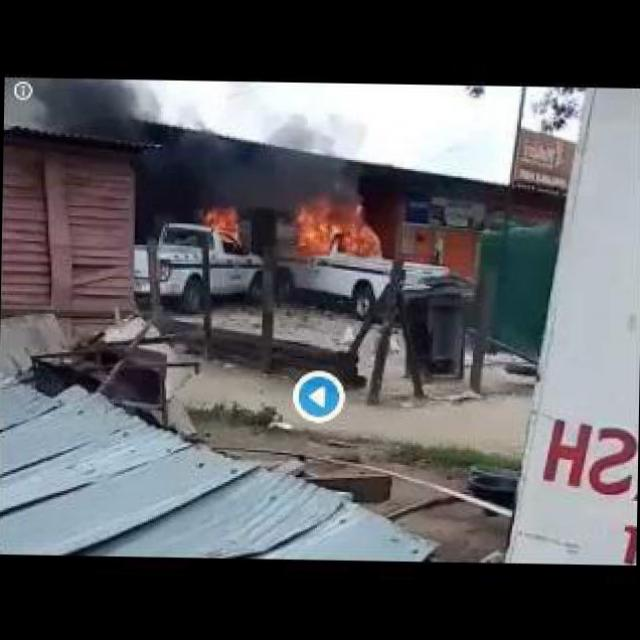fire: (284, 180, 384, 260), (196, 196, 248, 248)
smoke: (153, 104, 364, 208), (29, 77, 153, 154)
